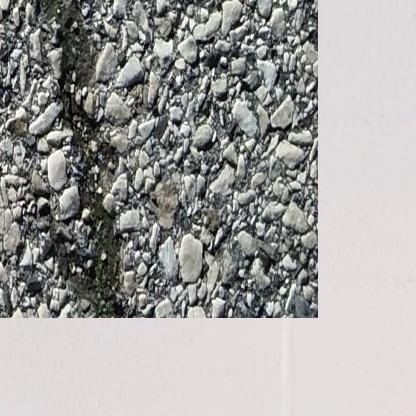Cracks: (29, 0, 120, 294)
